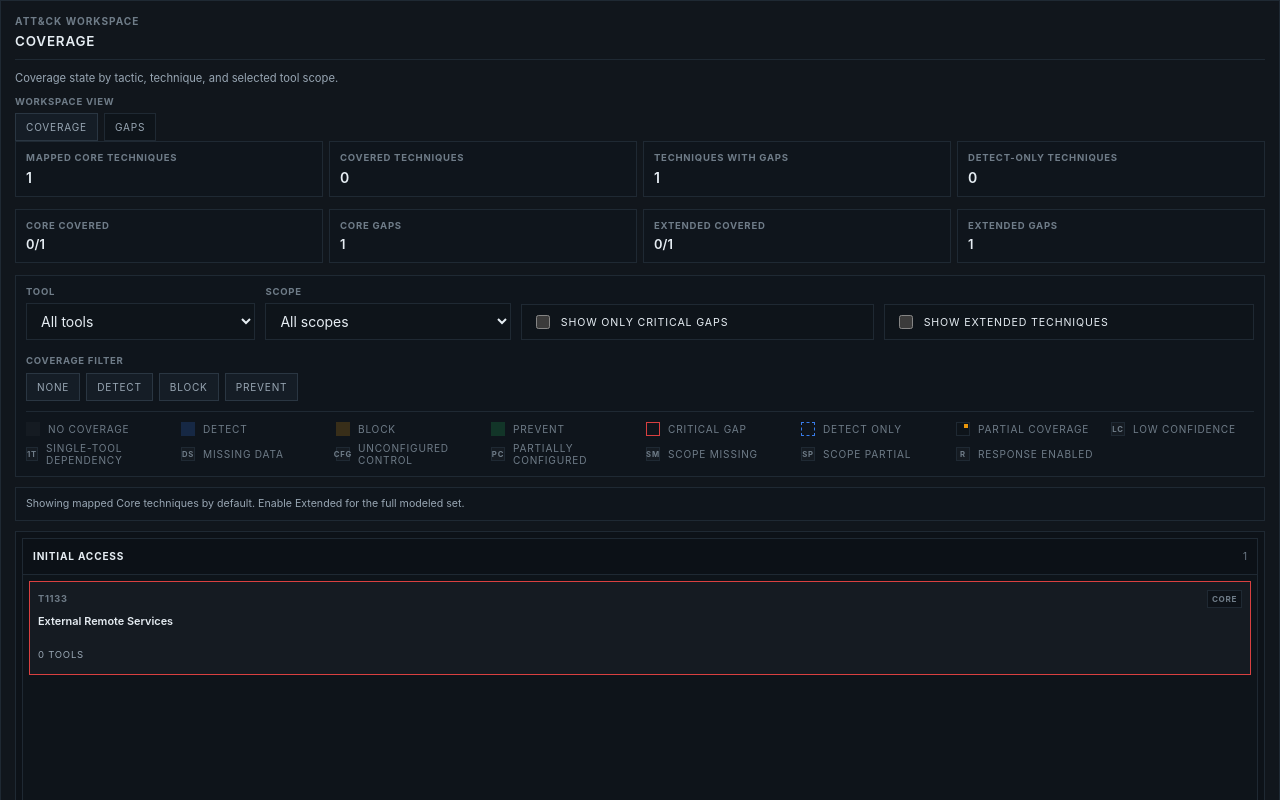
Test case: CoveragePage › shows core techniques by default and reveals extended techniques on toggle
Expected: the text "External Remote Services" is shown, [38,614,173,628]
Expected: the text "Exploit Public-Facing Application" is not shown
Click the checkbox labelled "Show extended techniques" at (906,322), box [899,315,913,329]
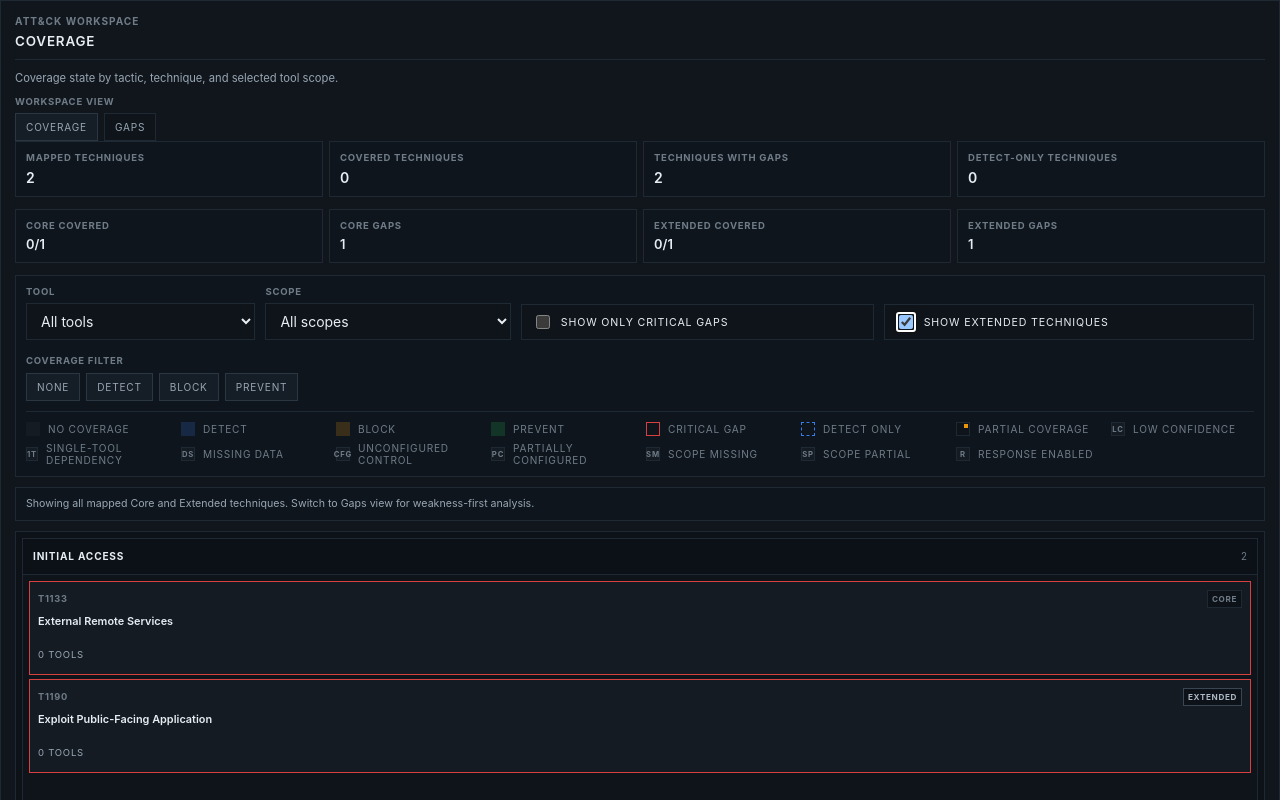
Expected: the text "Extended covered" is shown, [654,220,766,231]
Expected: the text "Exploit Public-Facing Application" is shown, [38,712,212,726]
